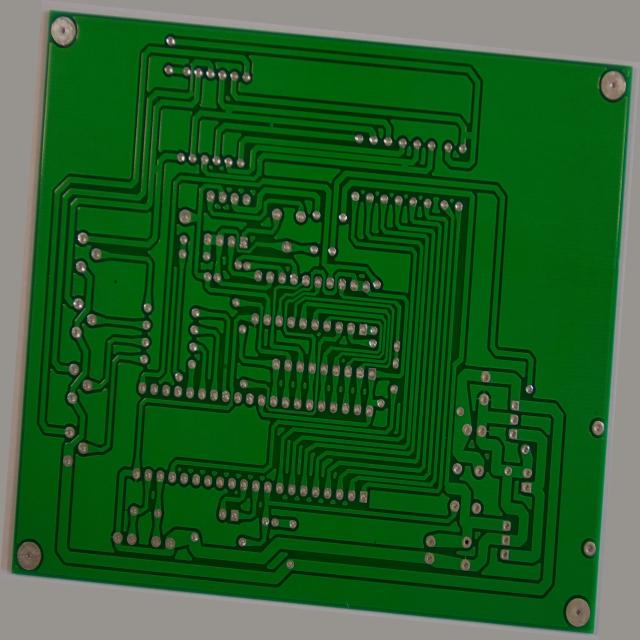short: (453, 86, 474, 110), (196, 89, 215, 112), (246, 100, 260, 121), (389, 131, 406, 148), (127, 163, 142, 182)
